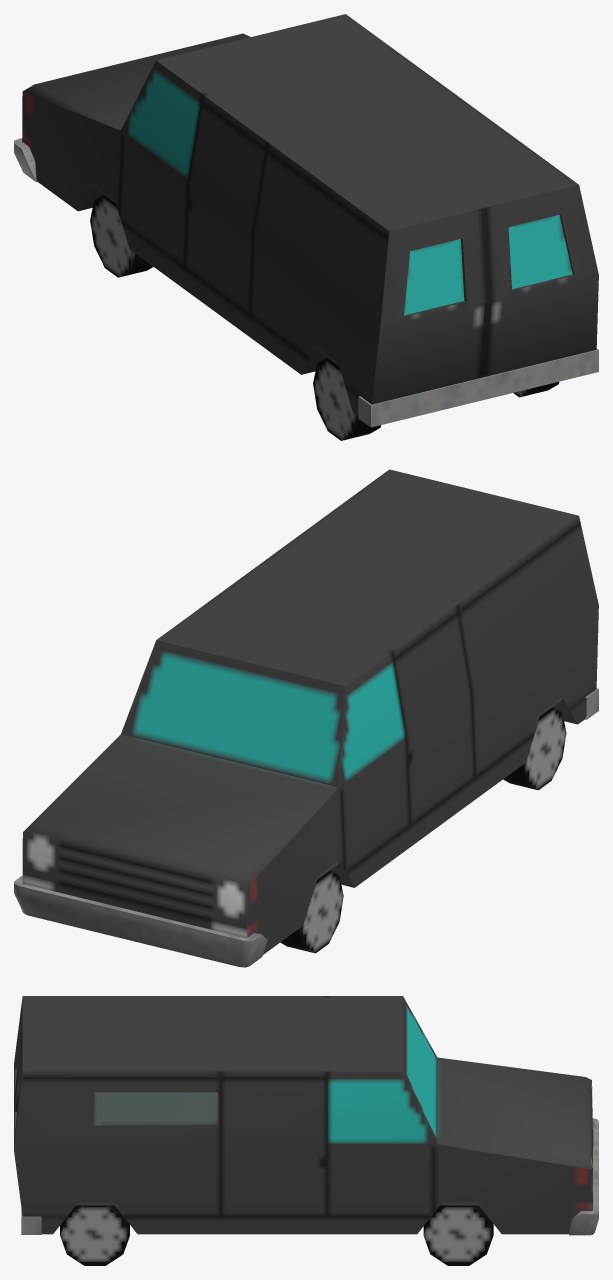
The model's file is Furgon_pny.glb.
The picture shows the model from 3 angles, top to bottom: view 1: azimuth 30°, elevation 25°; view 2: azimuth 150°, elevation 25°; view 3: azimuth 270°, elevation 25°; orthographic projection. The views are drawn at different scales.
Parts seen in each view (by area): view 1: Line001; view 2: Line001; view 3: Line001.
Boxes of the visible parts, x1,y1,x2,y2 form: Line001: (14, 14, 598, 440); Line001: (14, 469, 598, 967); Line001: (14, 996, 598, 1265).
Bounding box in the file's own units: 1.51 × 1.41 × 3.91.
Materials: 1 (1 with a texture image).
